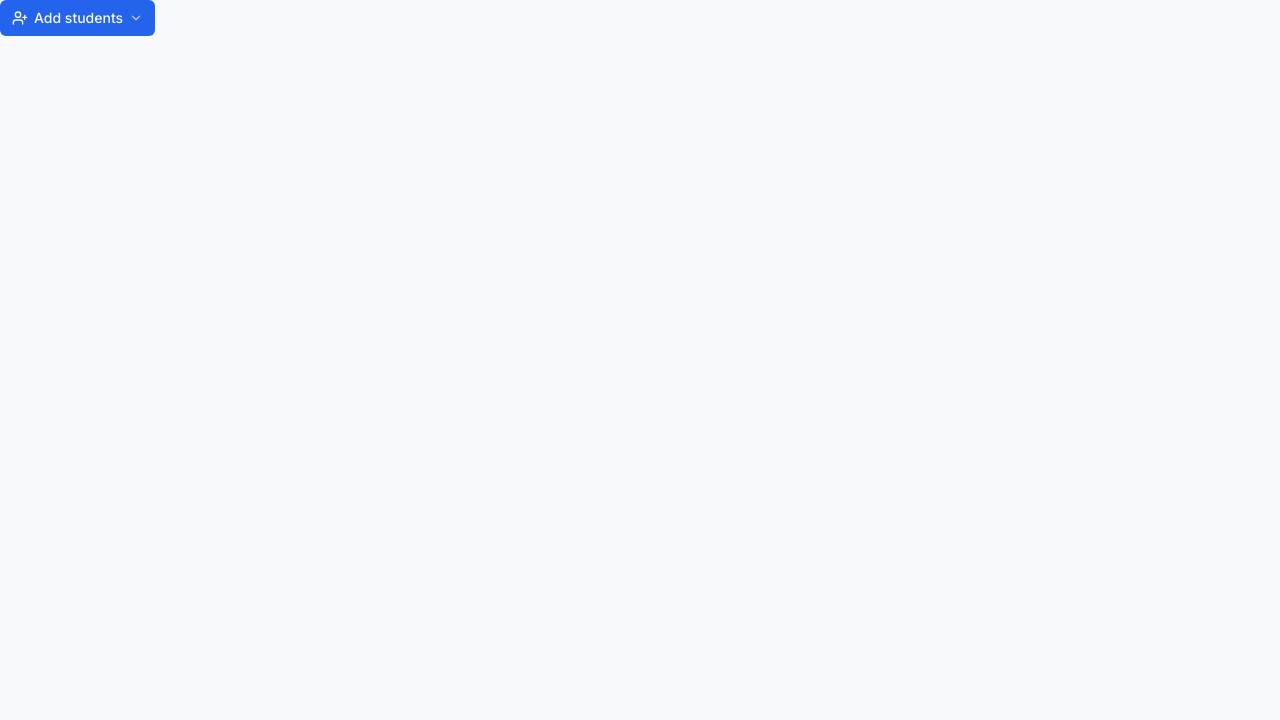
Test: AddStudentsMenu › warns when the public form would refuse registrations
The image size is (1280, 720).
Click the button "Add students". click: {"x": 78, "y": 18}
box: [0, 0, 155, 36]
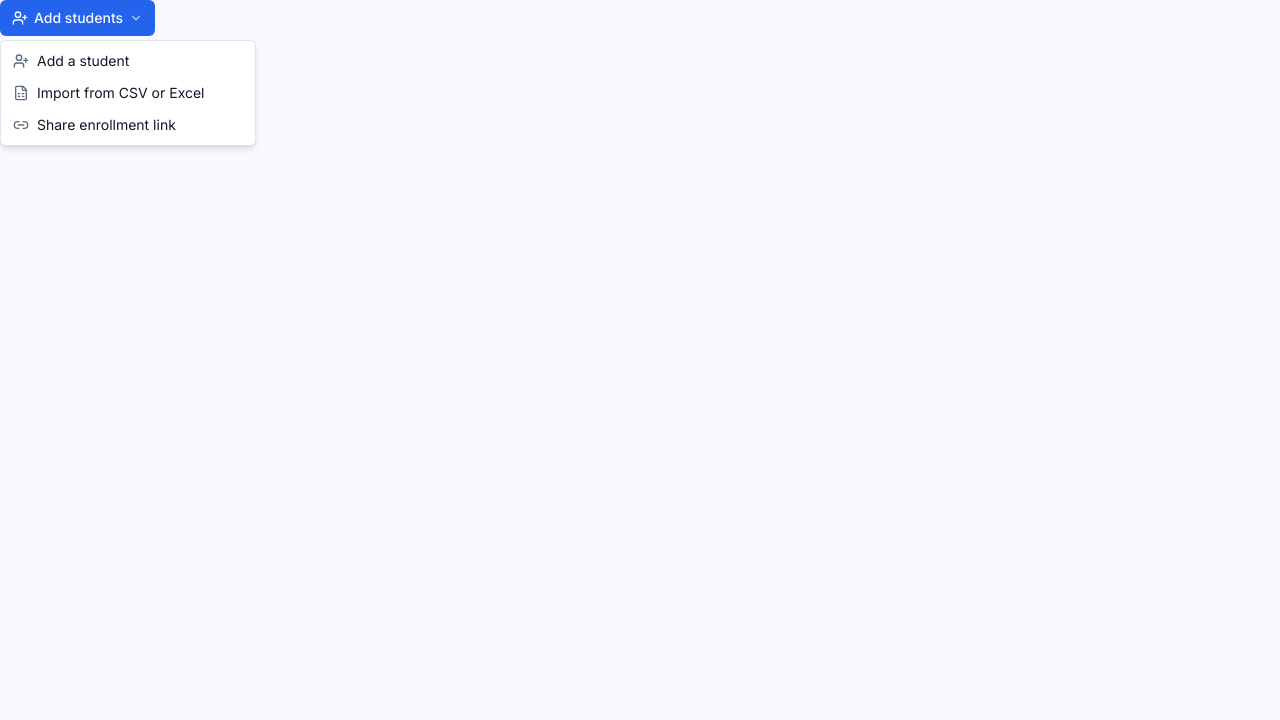
Click the menu item "Share enrollment link". click: {"x": 94, "y": 124}
box: [13, 116, 176, 133]
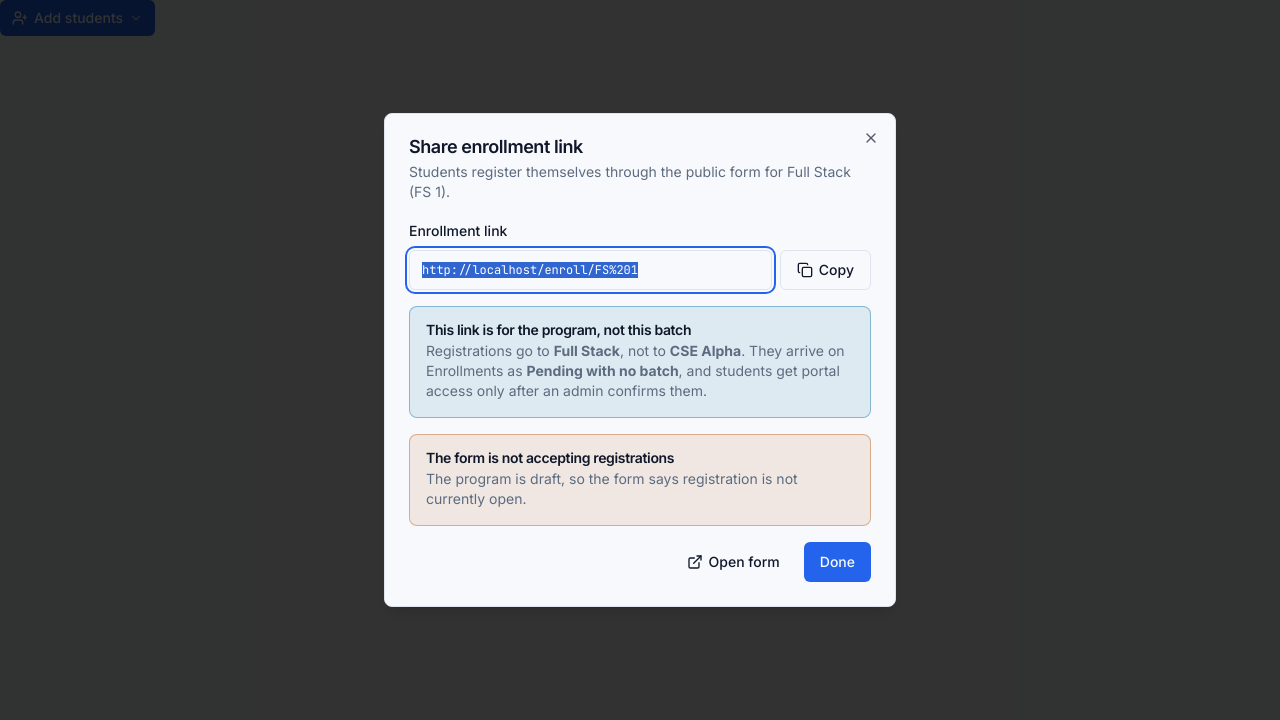
Check: the heading "The form is not accepting registrations" is shown, box [426, 449, 674, 466]
Check: the text "draft, so the form says registration is not currently open" is shown, box [426, 470, 798, 507]
